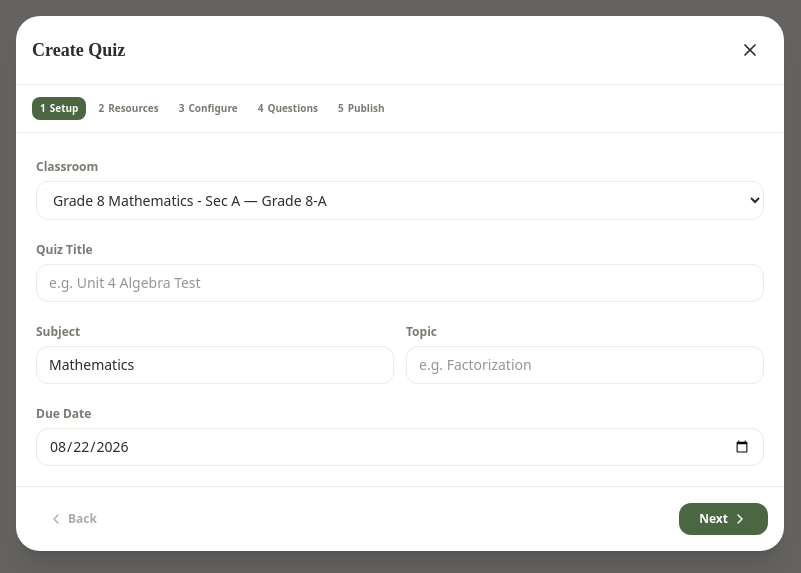
Test: QuizBuilderWizard Component › 2. navigates to resources step
The image size is (801, 573).
Click the button "Next".
click(724, 518)  # box [679,502,768,534]
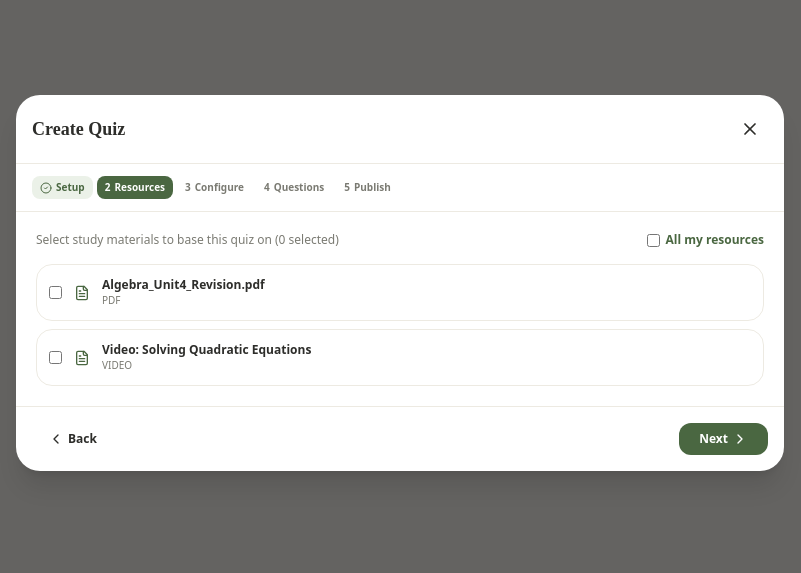
Expected: the text "Select study materials to base this quiz on (0 selected)" is shown, [36,232,339,248]
